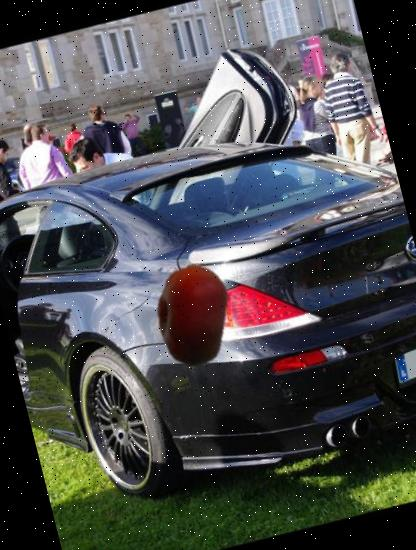Nectarine: (133, 254, 255, 376)
